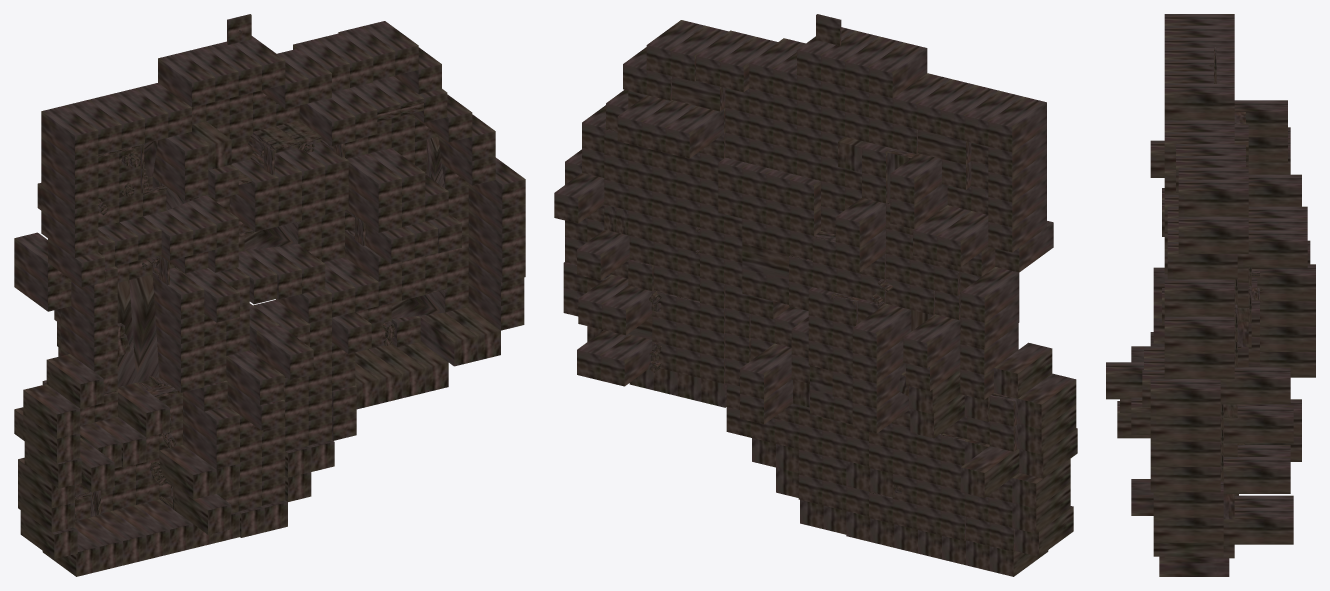
File: dust2cyberiav2.glb
3 views of the same model, side by side, from view 1: azimuth 30°, elevation 25°; view 2: azimuth 150°, elevation 25°; view 3: azimuth 270°, elevation 25° (orthographic). The views are drawn at different scales.
Parts seen in each view (by area): view 1: Cube.856, Cube.1305, Cube.1222, Cube.1236, Cube.1221, Cube.1242, Cube.1304, Cube.1048, Cube.1105, Cube.1037, Cube.1163, Cube.954 (+110 smaller); view 2: Cube.1141, Cube.1242, Cube.1222, Cube.1221, Cube.1236, Cube.905, Cube.862, Cube.1223, Cube.1204, Cube.1139, Cube.1166, Cube.1026 (+80 smaller); view 3: Cube.1039, Cube.1040, Cube.1176, Cube.1226, Cube.1227, Cube.1234, Cube.1050, Cube.1026, Cube.1173, Cube.985, Cube.1225, Cube.905 (+49 smaller).
Boxes of the visible parts, x1,y1,x2,y2 form: Cube.856: [129, 274, 159, 382]; Cube.1305: [256, 325, 313, 379]; Cube.1222: [46, 354, 103, 408]; Cube.1236: [158, 52, 215, 107]; Cube.1221: [23, 384, 80, 438]; Cube.1242: [41, 105, 98, 160]; Cube.1304: [226, 350, 283, 404]; Cube.1048: [420, 312, 477, 366]; Cube.1105: [159, 445, 216, 499]; Cube.1037: [347, 153, 401, 208]; Cube.1163: [116, 383, 169, 437]; Cube.954: [299, 98, 355, 146]; Cube.1141: [960, 267, 1019, 322]; Cube.1242: [988, 96, 1046, 152]; Cube.1222: [994, 342, 1052, 398]; Cube.1221: [1018, 373, 1076, 429]; Cube.1236: [869, 42, 927, 98]; Cube.905: [852, 303, 911, 358]; Cube.862: [903, 314, 960, 368]; Cube.1223: [665, 106, 723, 158]; Cube.1204: [960, 446, 1019, 497]; Cube.1139: [937, 211, 988, 266]; Cube.1166: [740, 343, 791, 399]; Cube.1026: [577, 229, 629, 280]; Cube.1039: [1164, 279, 1234, 316]; Cube.1040: [1164, 316, 1234, 353]; Cube.1176: [1150, 379, 1220, 416]; Cube.1226: [1178, 216, 1248, 253]; Cube.1227: [1178, 179, 1248, 216]; Cube.1234: [1164, 83, 1234, 120]; Cube.1050: [1223, 507, 1293, 544]; Cube.1026: [1223, 406, 1293, 443]; Cube.1173: [1220, 367, 1290, 404]; Cube.985: [1223, 457, 1290, 493]; Cube.1225: [1237, 230, 1307, 267]; Cube.905: [1251, 264, 1315, 301].
Size of the model in its own units: 400 by 405 by 150.
Materials: 1 (1 with a texture image).
